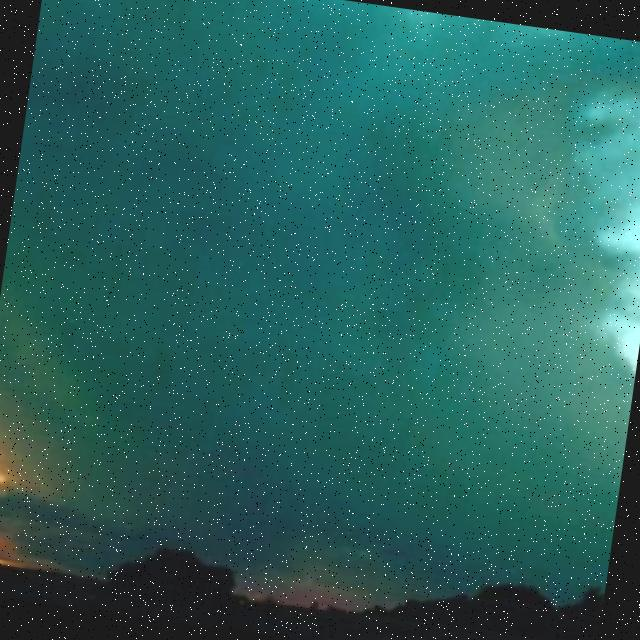Cb: (1, 1, 640, 488)
